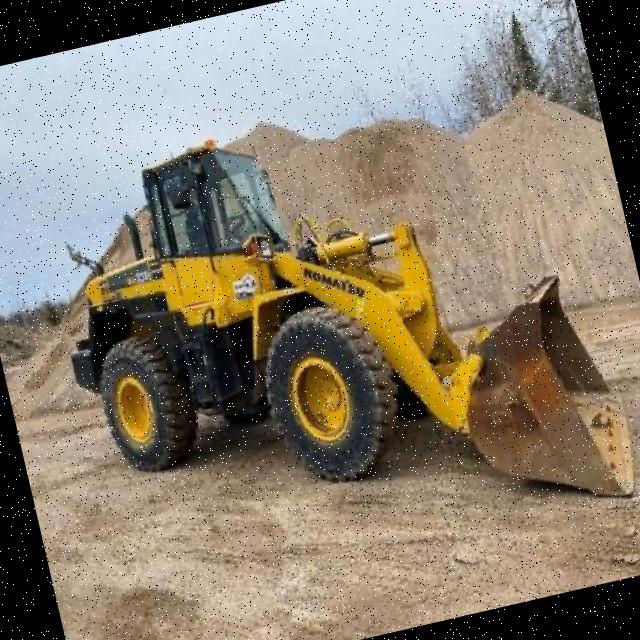Loader: (27, 58, 640, 612)
